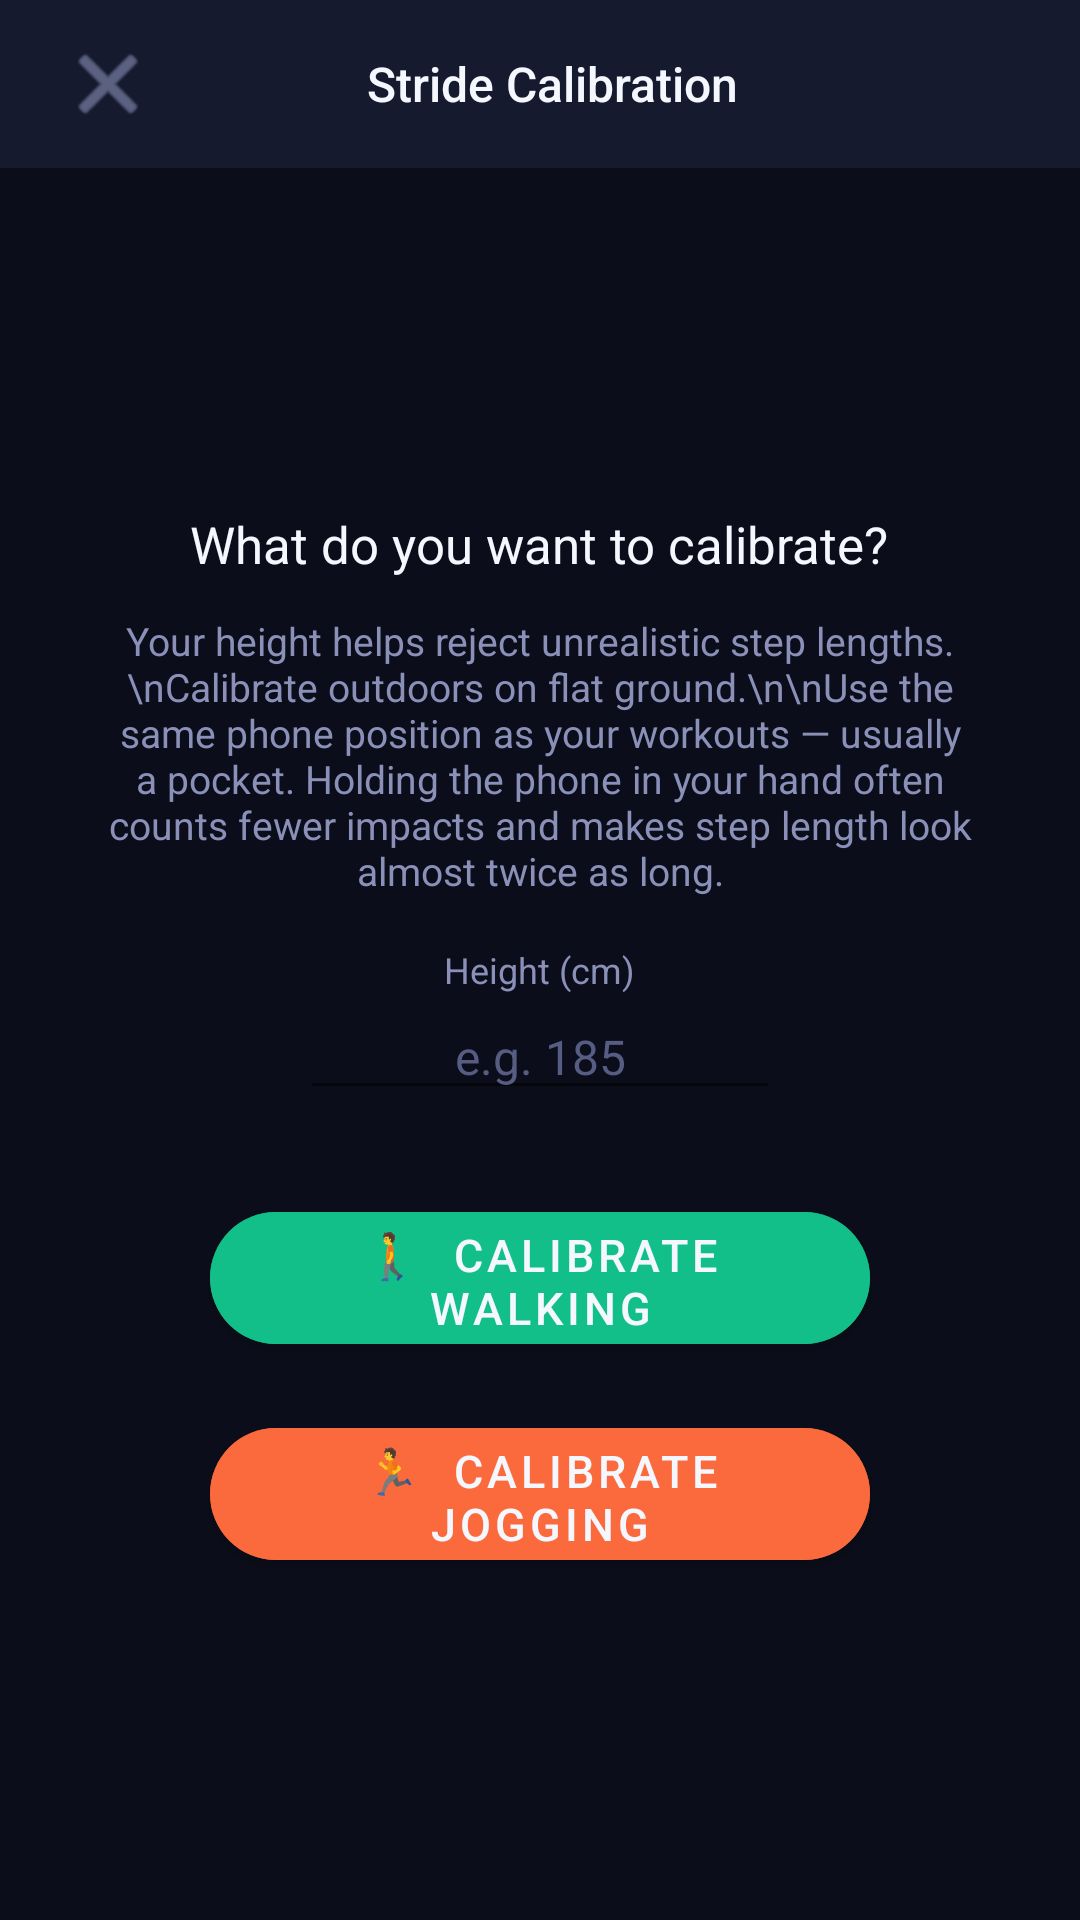

Icon click points for this 1080*1920 phone screenshot, format [x,y]:
Close calibration: [108,84]
